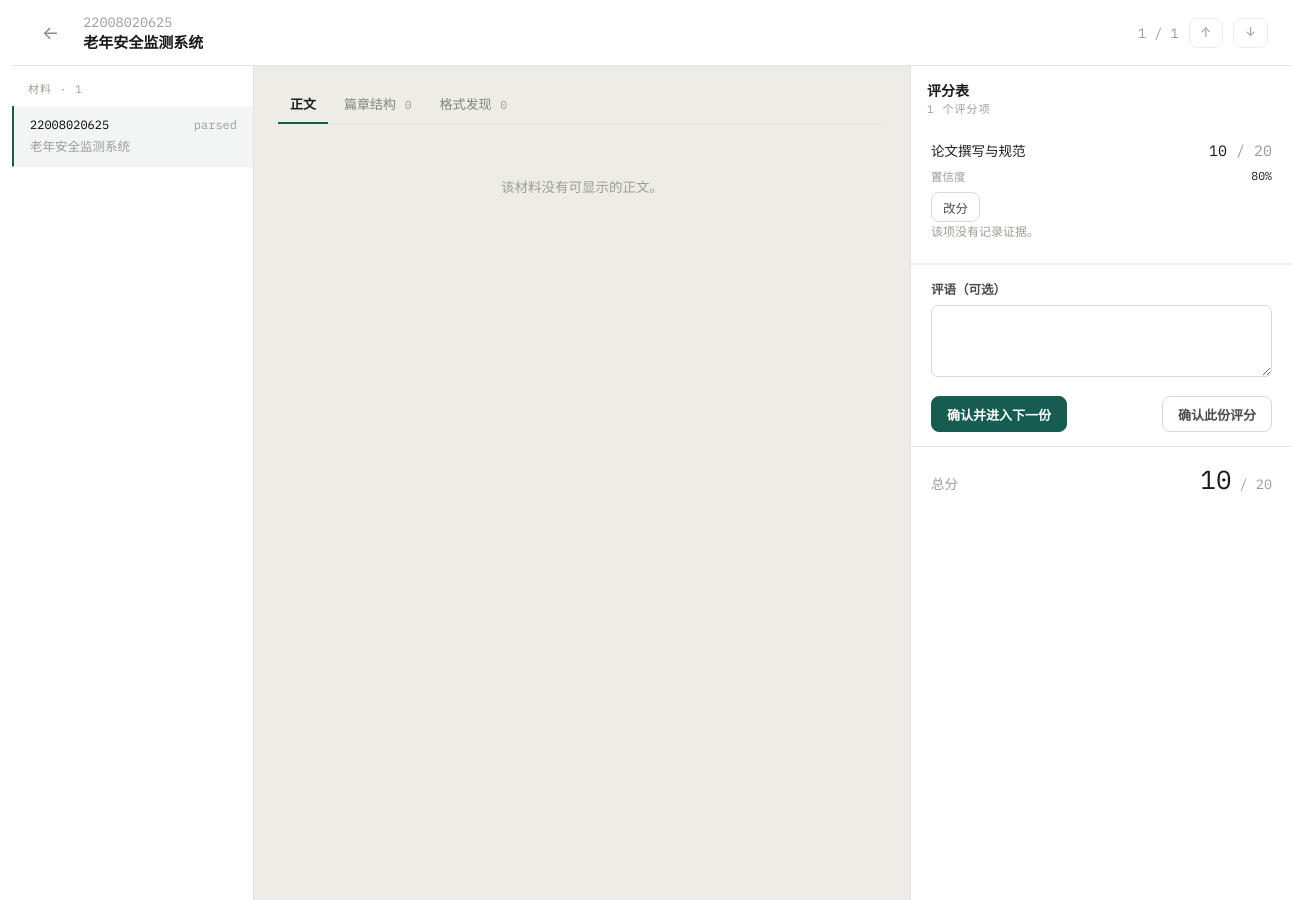
Test: 没对上的英文报错不原样给用户，给中文说明和状态码
Click the button with class "edit-trigger": [956, 207] box [931, 192, 980, 222]
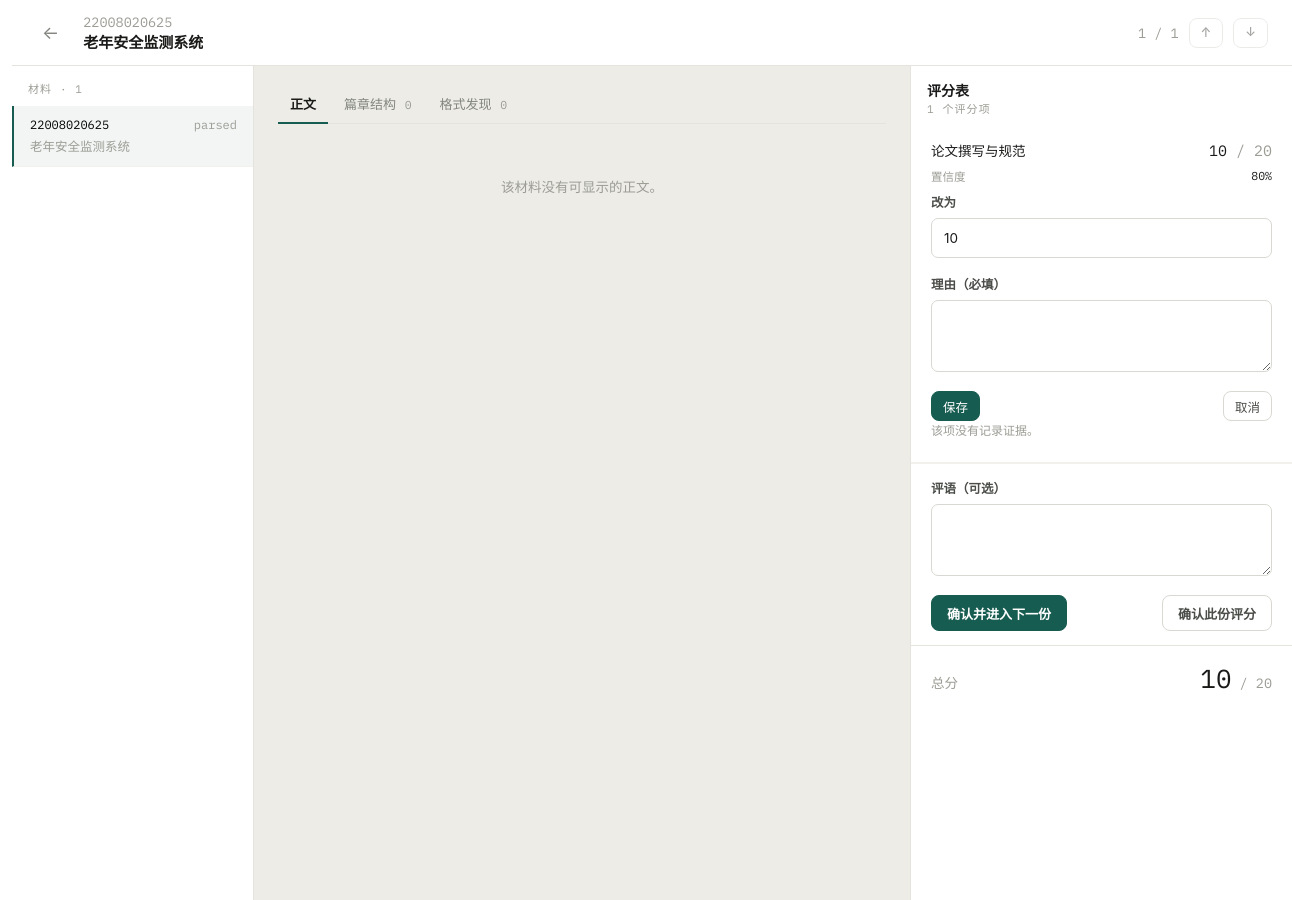
In the text box labelled "理由（必填）": [1102, 336] box [931, 300, 1272, 372], type "复核后调整"
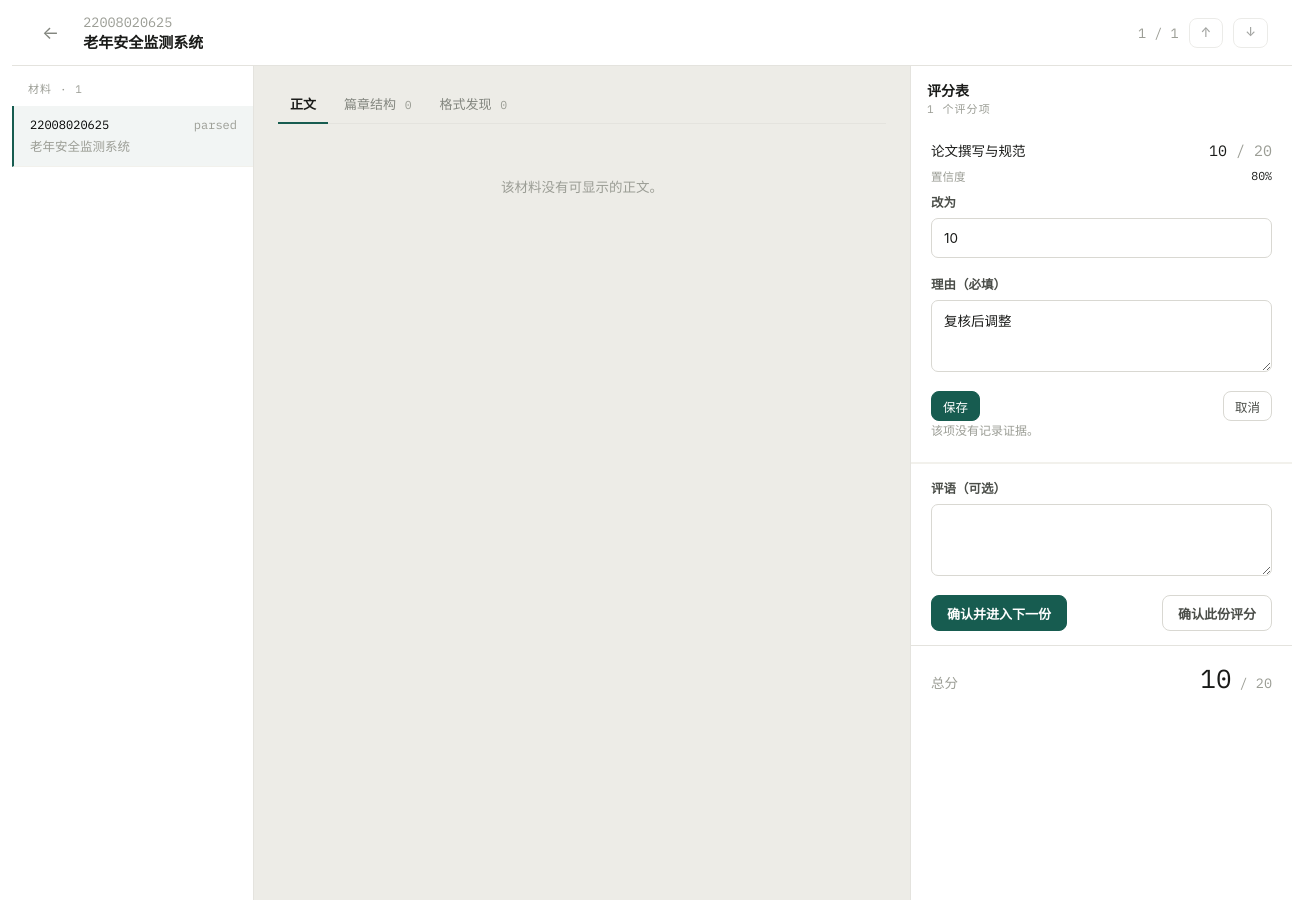
Click the button "保存": [956, 406] box [931, 391, 980, 421]
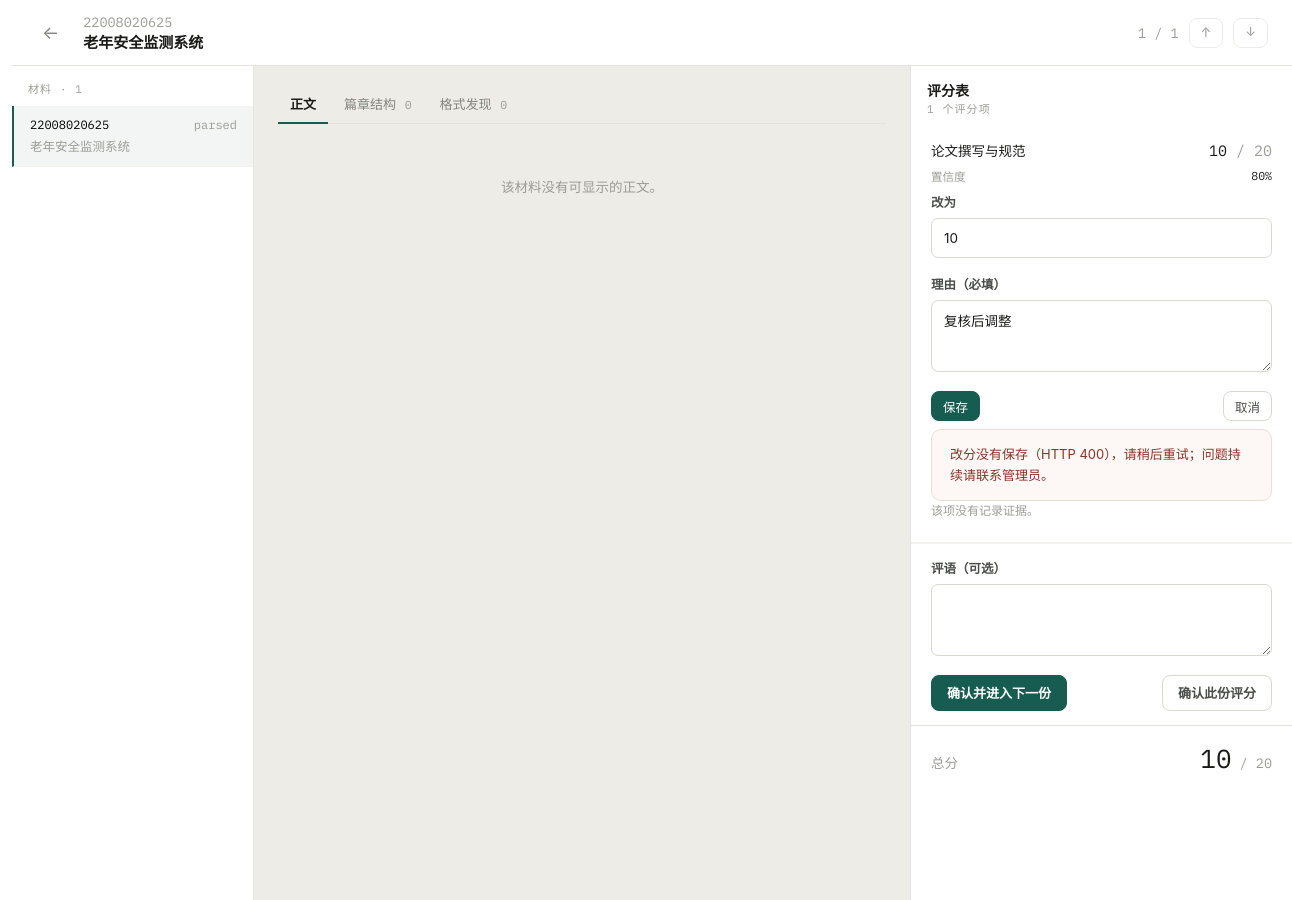
Result: the message with test id "edit-error" reads "改分没有保存（HTTP 400），请稍后重试；问题持续请联系管理员。" at [950, 446, 1241, 483]
